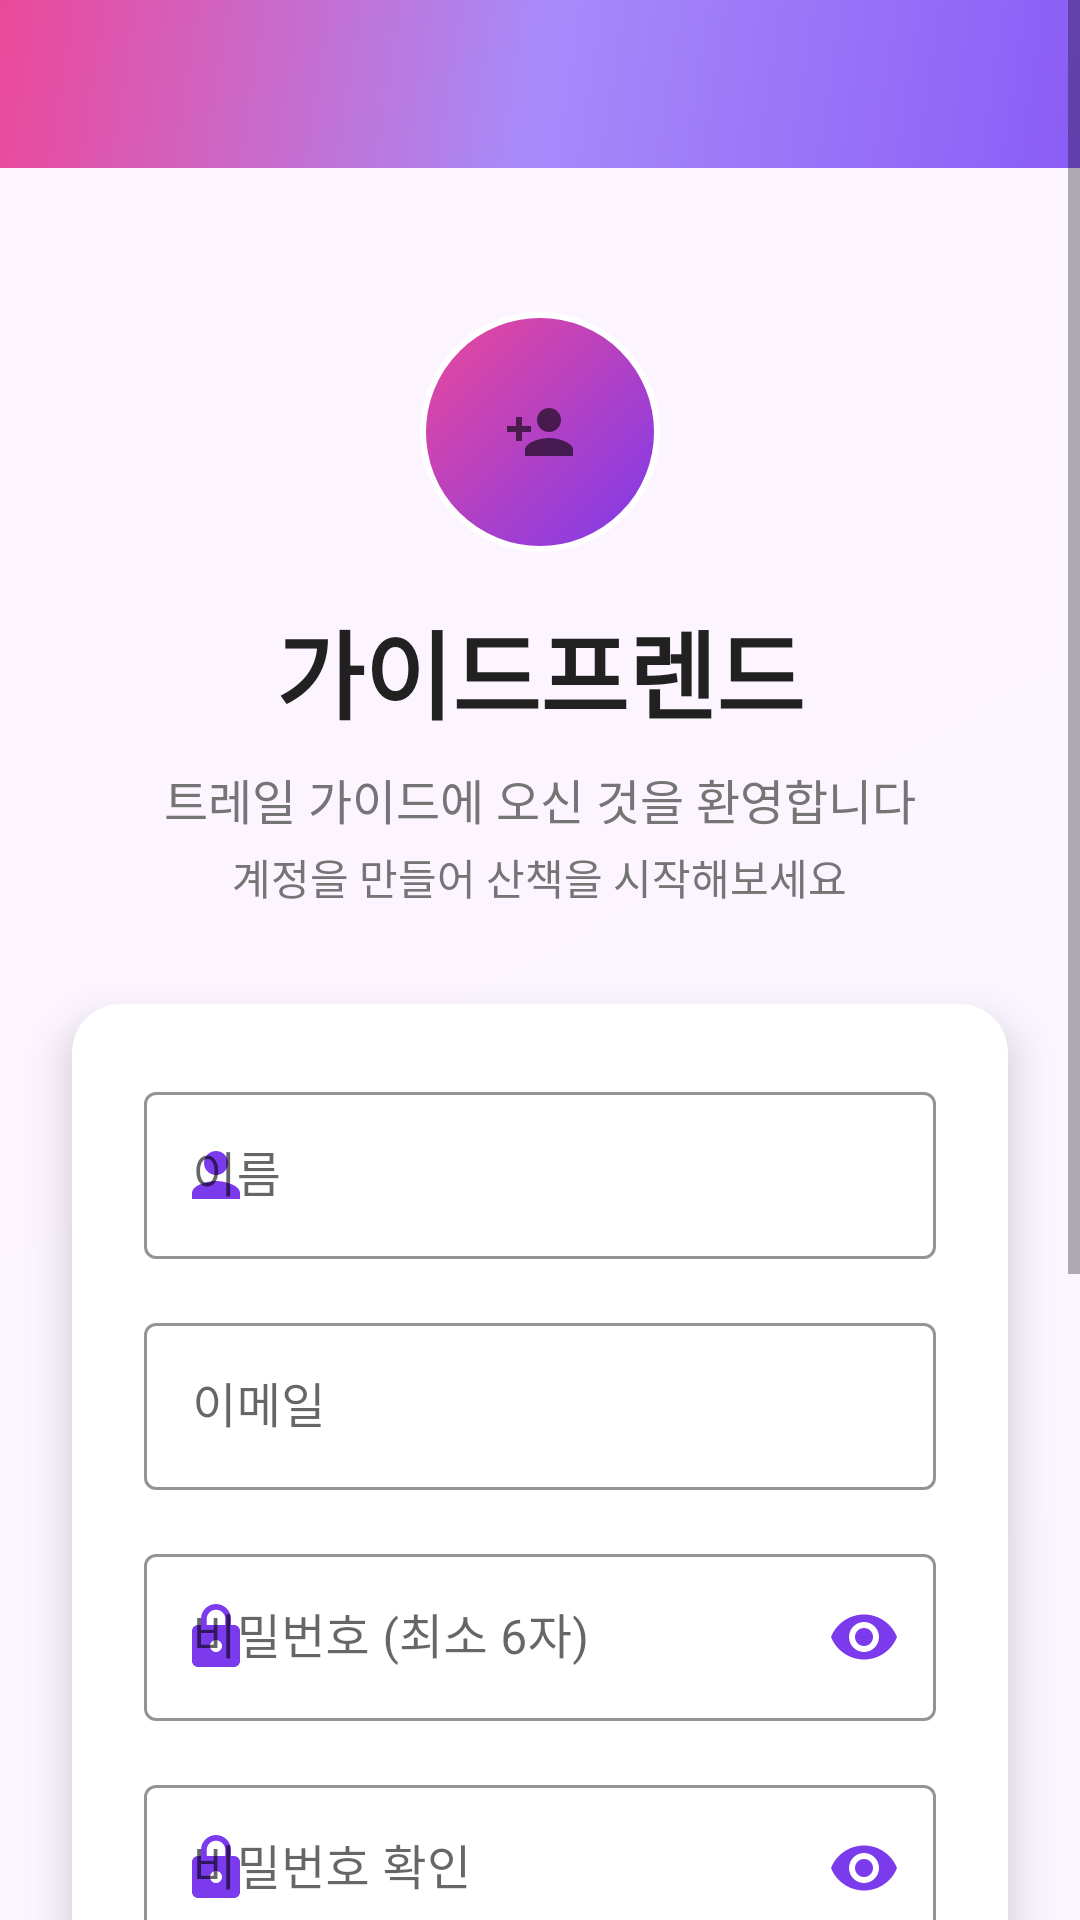

Icons on this 1080px x 1920px Android screen, each with the point to tap as (x=x, y=y):
person add: (x=540, y=432)
